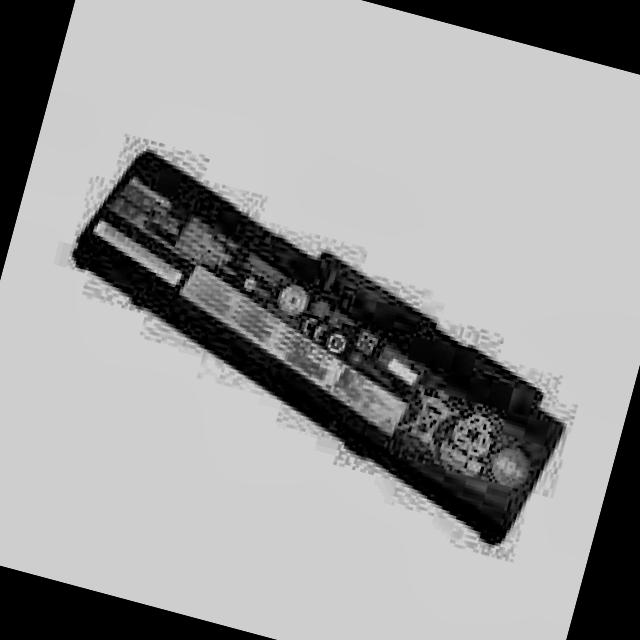Battery: (28, 137, 605, 554)
